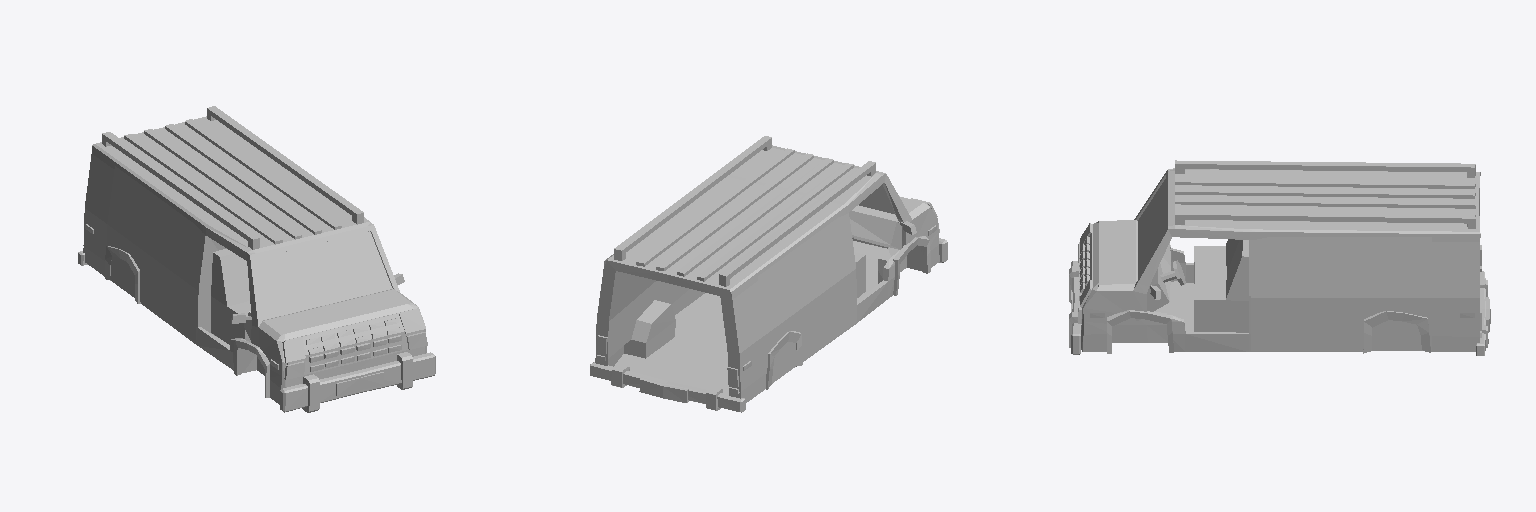
The model's file is Van_Body.obj.
The picture shows the model from 3 angles: view 1: azimuth 30°, elevation 25°; view 2: azimuth 150°, elevation 25°; view 3: azimuth 270°, elevation 25°; orthographic projection.
Parts seen in each view (by area): view 1: Van_Body; view 2: Van_Body; view 3: Van_Body.
Part boxes in pixels (x1,y1,x2,y2): Van_Body: (78,106,435,412); Van_Body: (590,136,947,412); Van_Body: (1069,160,1490,355).
Bounding box in the file's own units: 5.8 × 4.37 × 12.21.